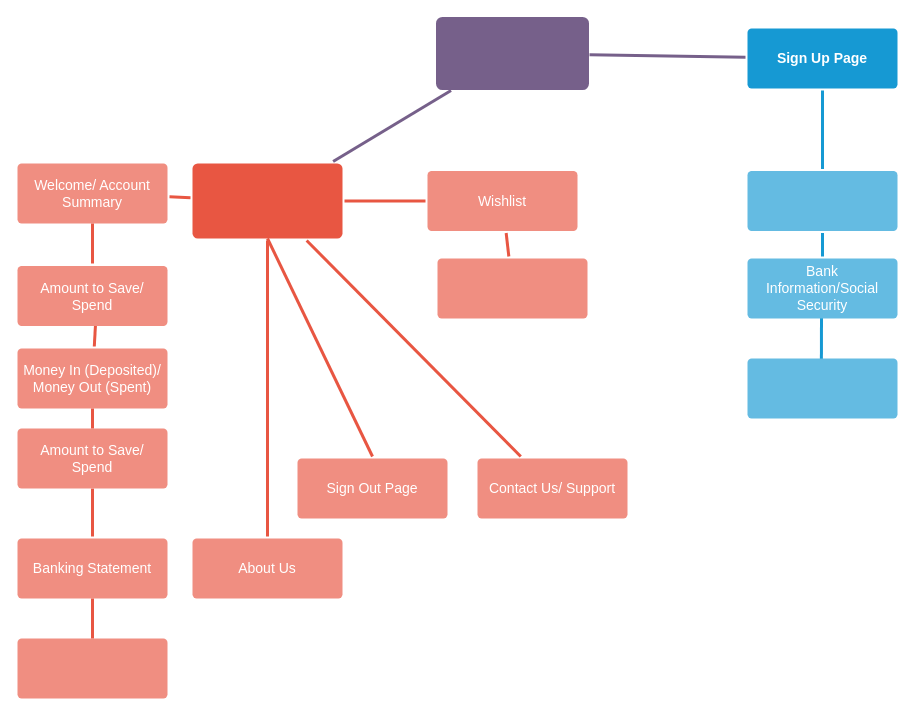
The diagram is 914 pixels wide and 716 high, and some of its shapes have lost their labels. Here are the shapes that lost their labels. From the top down, the box of each, then its label:
(436, 16, 588, 90): Login Page
(192, 163, 342, 238): FUNDs - Financially Unified Noble Dudes Front Page
(747, 170, 897, 230): Username/ Email/ Password
(437, 258, 587, 318): Items Missed
(747, 358, 897, 418): Re-direct to Login Page
(17, 638, 167, 698): Junk Report
